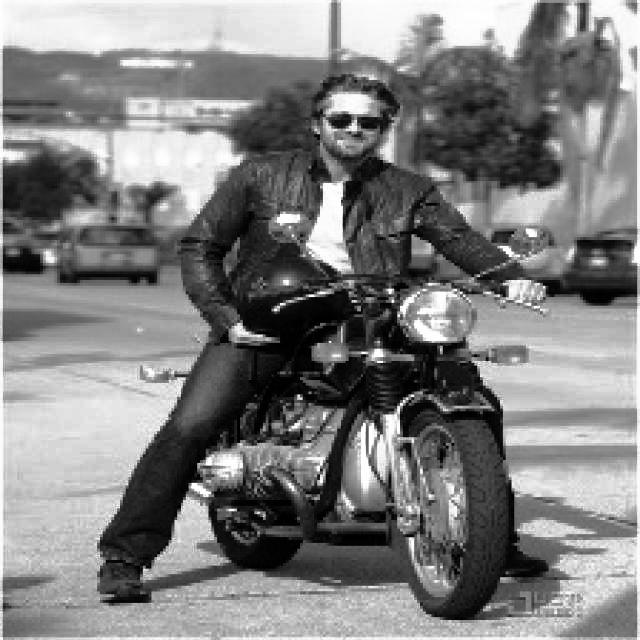Bike: (242, 314, 572, 634)
